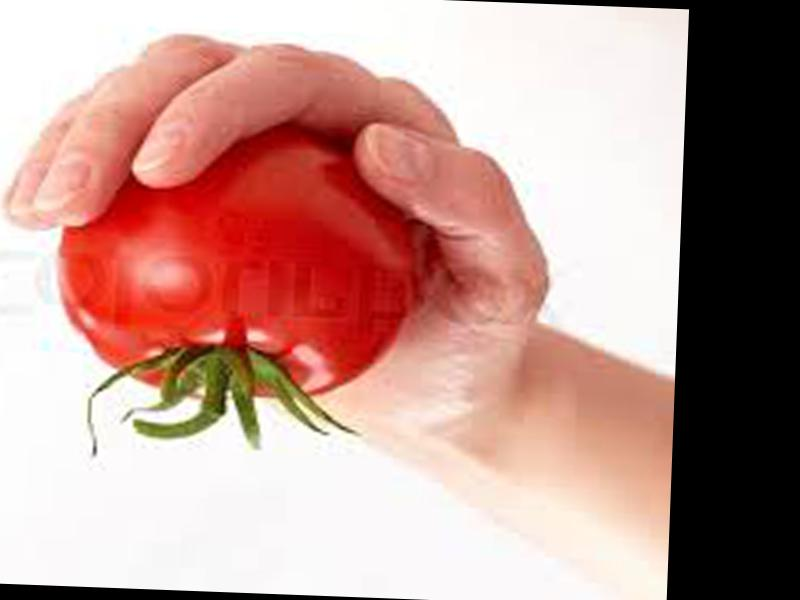Tomato: (53, 119, 414, 408)
